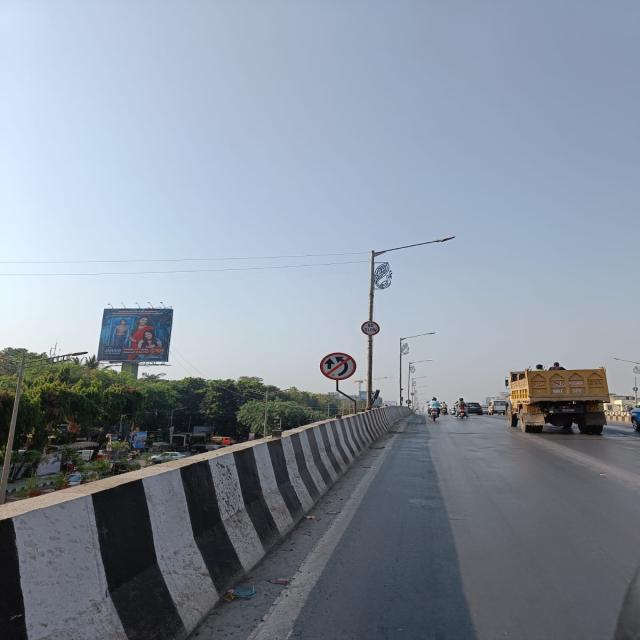overtaking prohibited: (320, 351, 359, 382)
